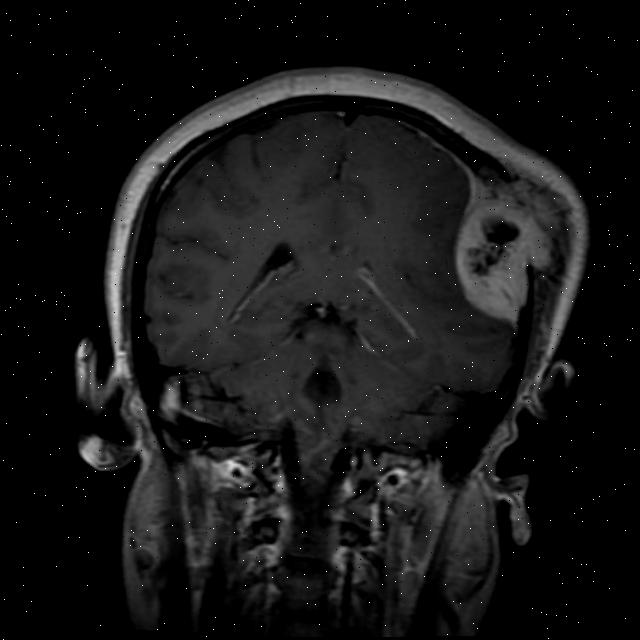Meningioma: (443, 145, 580, 336)
